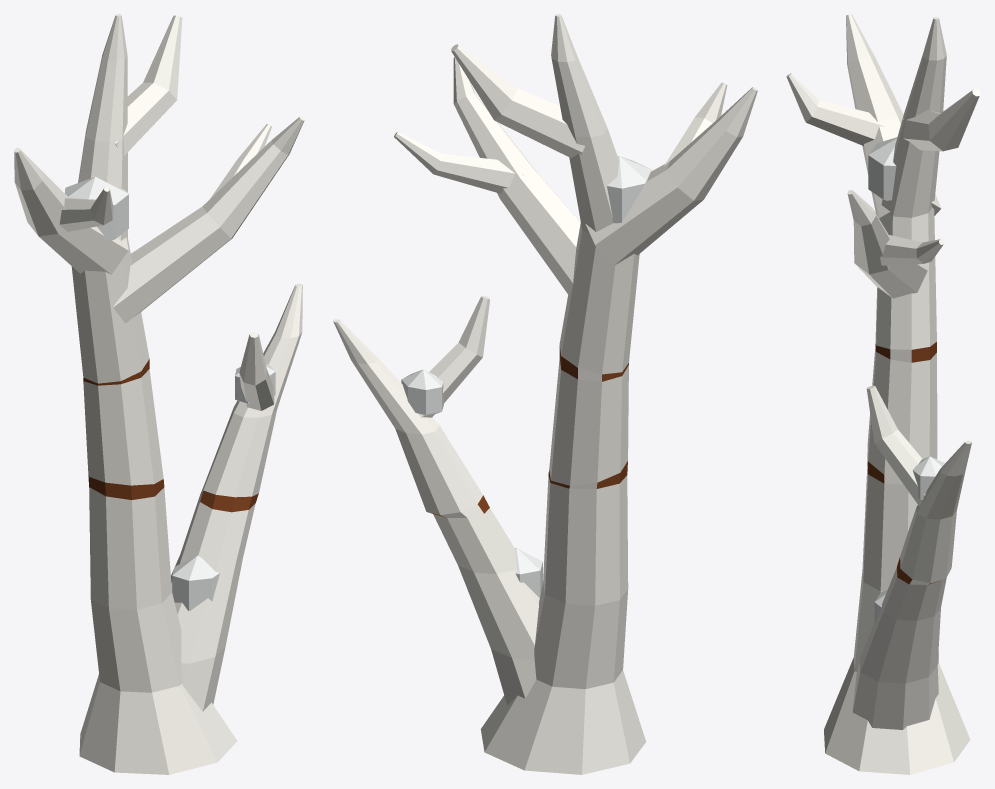
Rendered from WinterBirch.glb.
3 views of the same model, side by side, from view 1: azimuth 30°, elevation 25°; view 2: azimuth 150°, elevation 25°; view 3: azimuth 270°, elevation 25° (orthographic). The views are drawn at different scales.
Visible parts, largest first — view 1: WinterBirch; view 2: WinterBirch; view 3: WinterBirch.
Boxes of the visible parts, x1,y1,x2,y2 form: WinterBirch: (14,14,304,774); WinterBirch: (333,14,757,774); WinterBirch: (786,14,980,774).
Bounding box in the file's own units: 2.13 × 4.2 × 1.04.
Materials: 1 (1 with a texture image).
